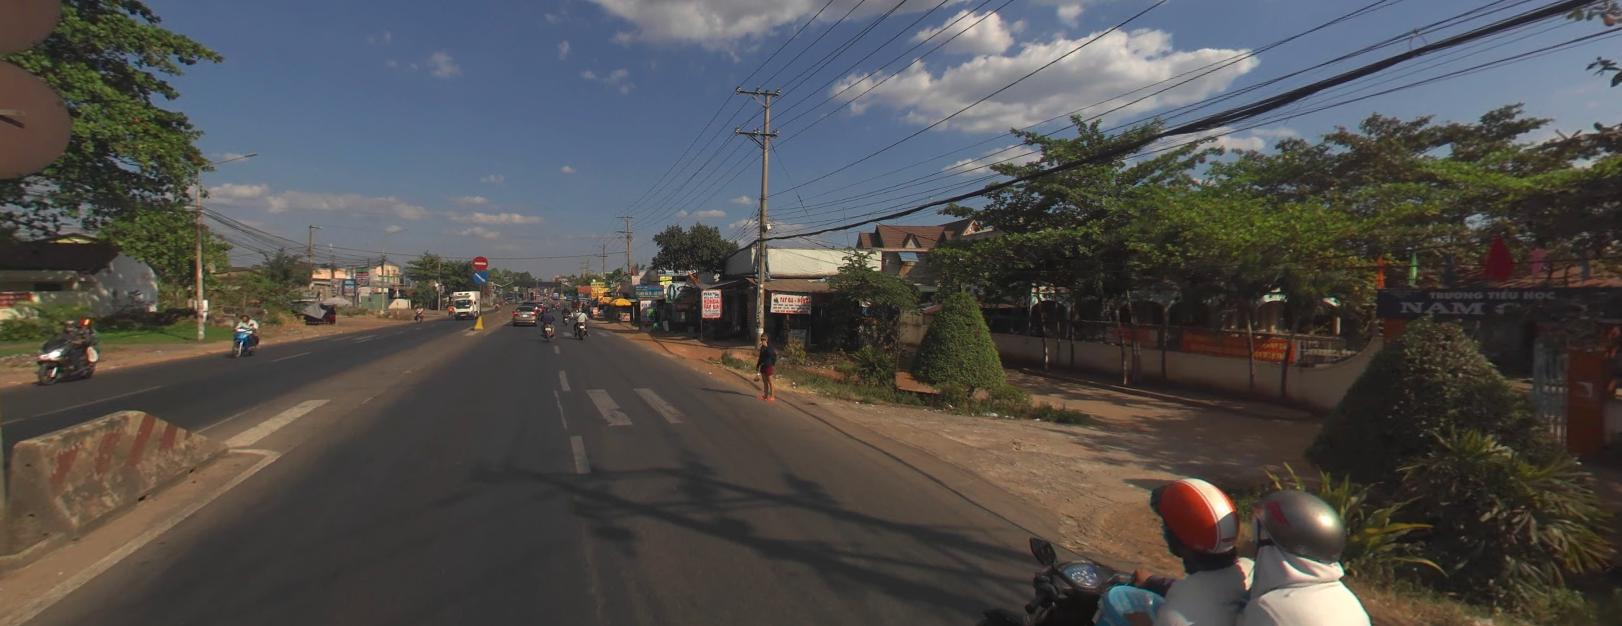Cam nguoc chieu: (472, 254, 487, 267)
Hieu lenh: (473, 269, 487, 282)
